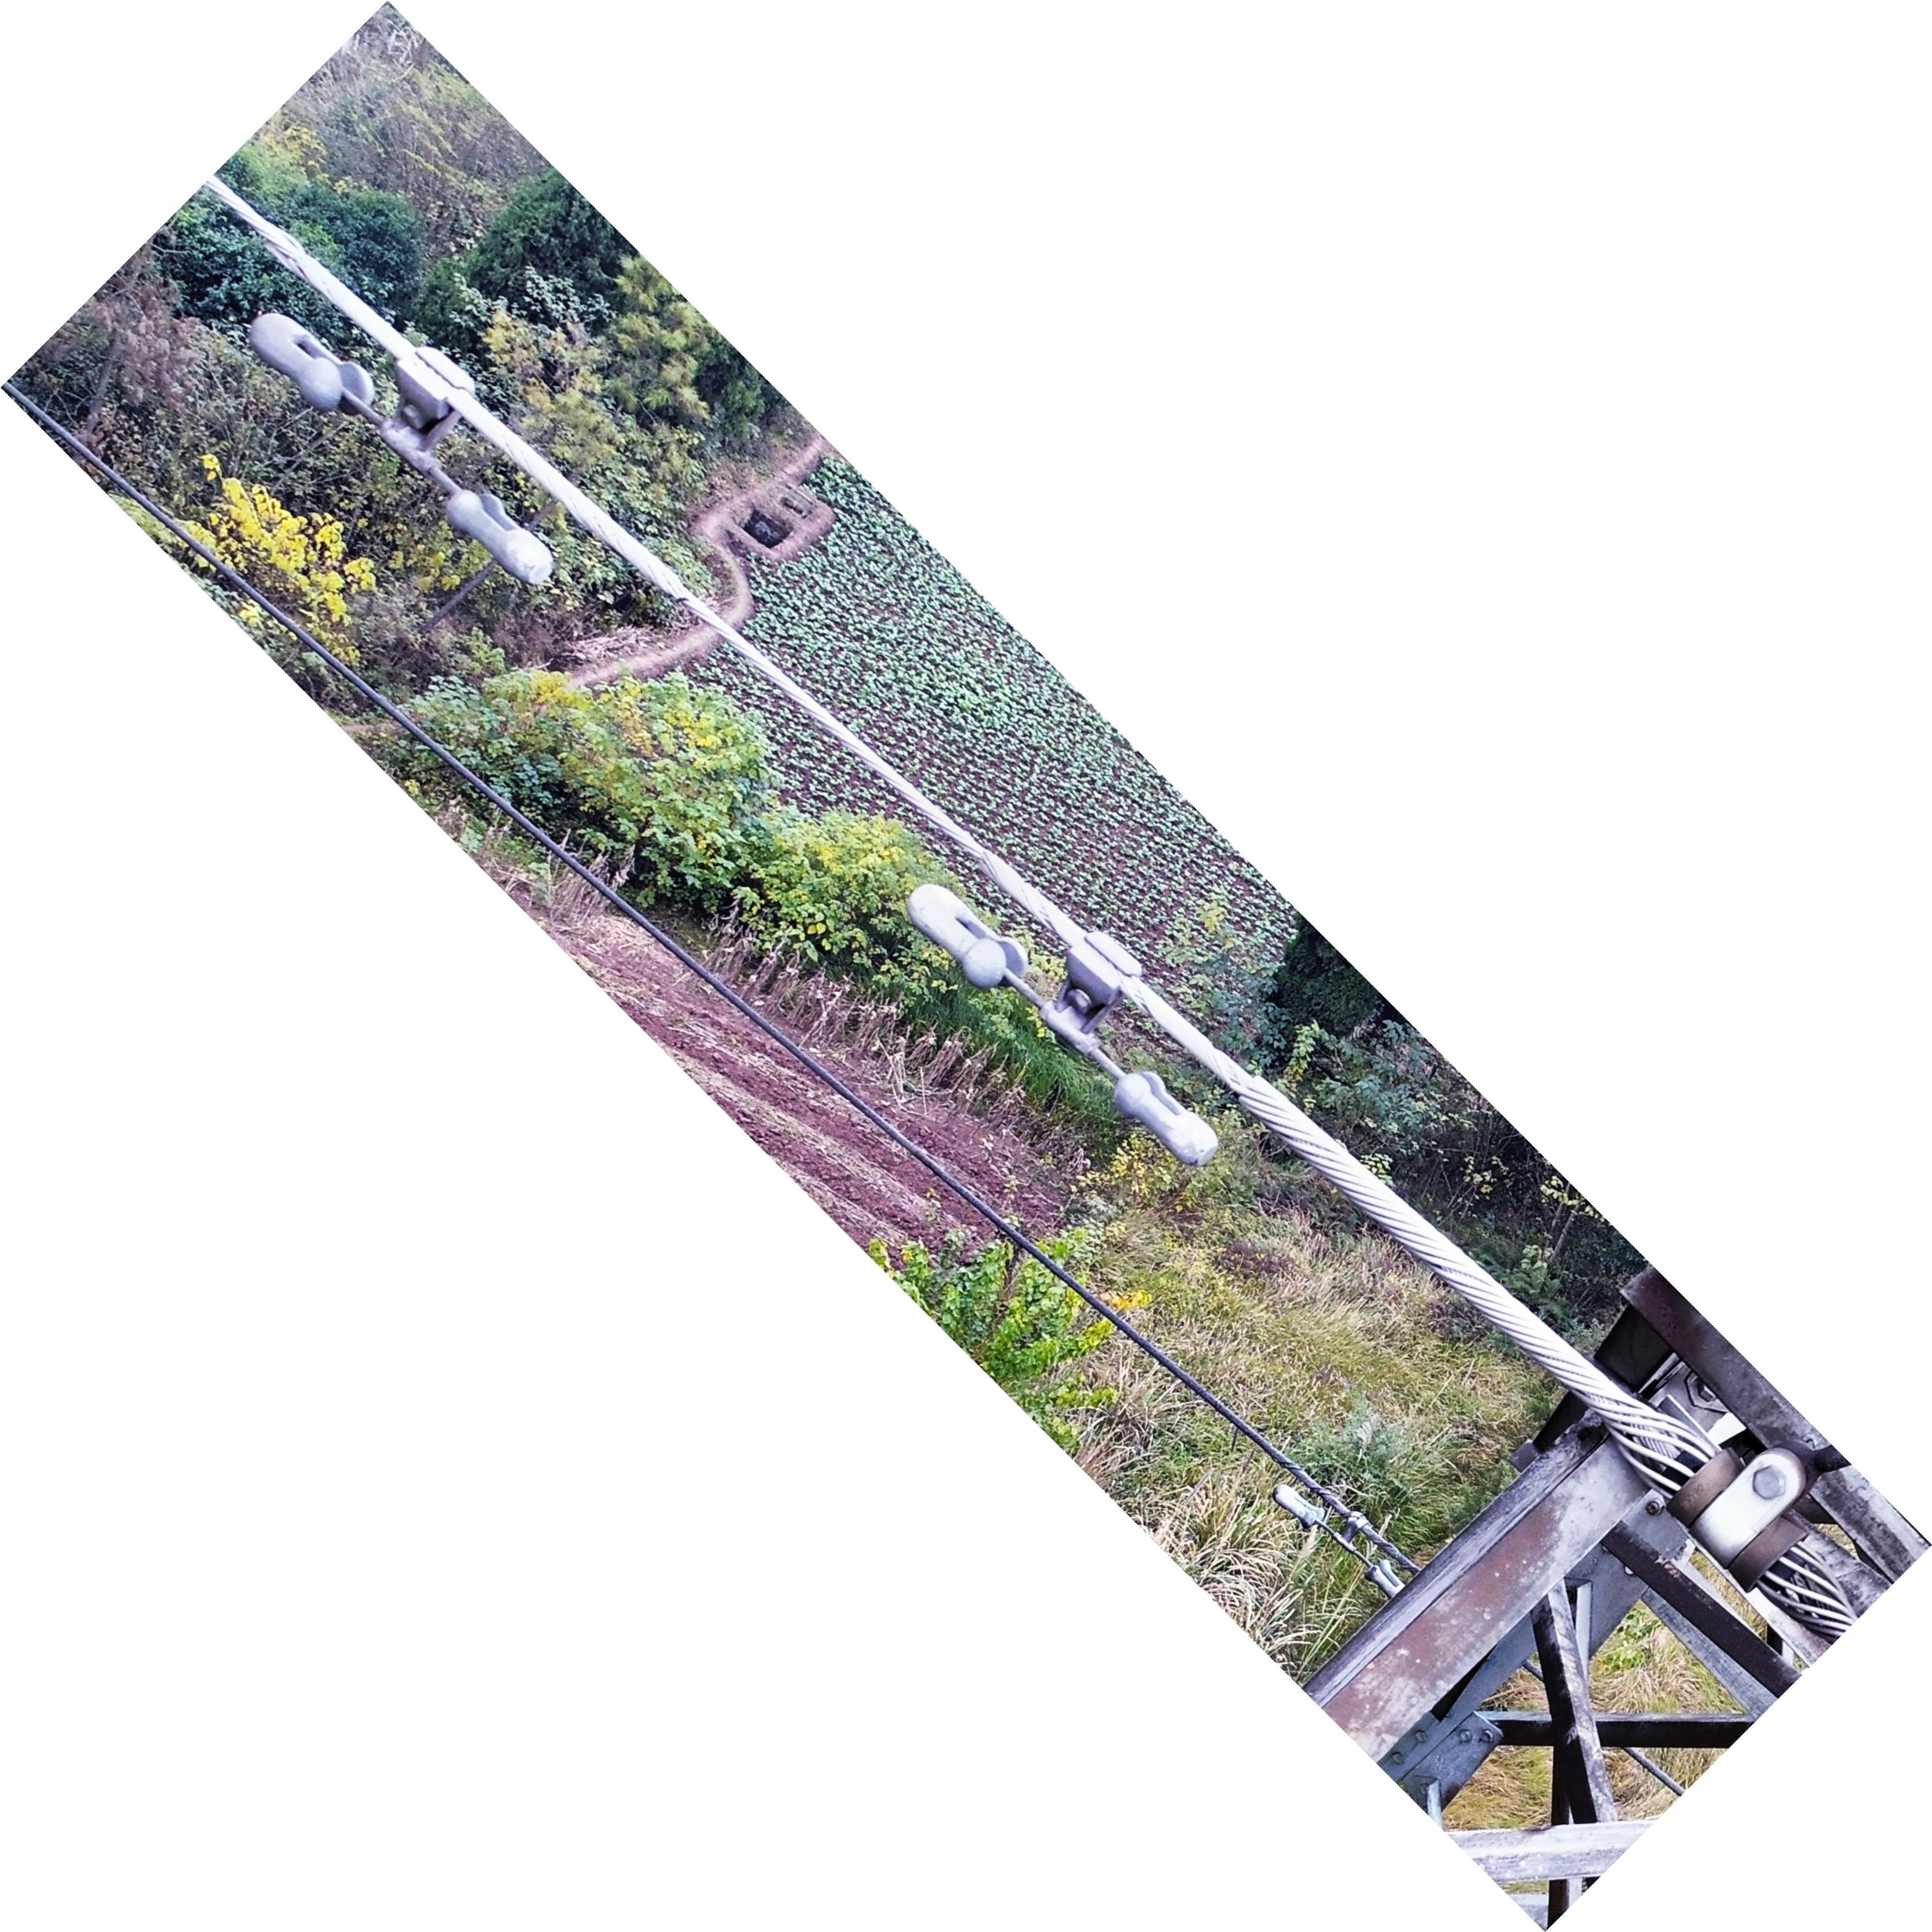Shockproof hammer: (876, 830, 1247, 1173), (228, 280, 584, 594)
